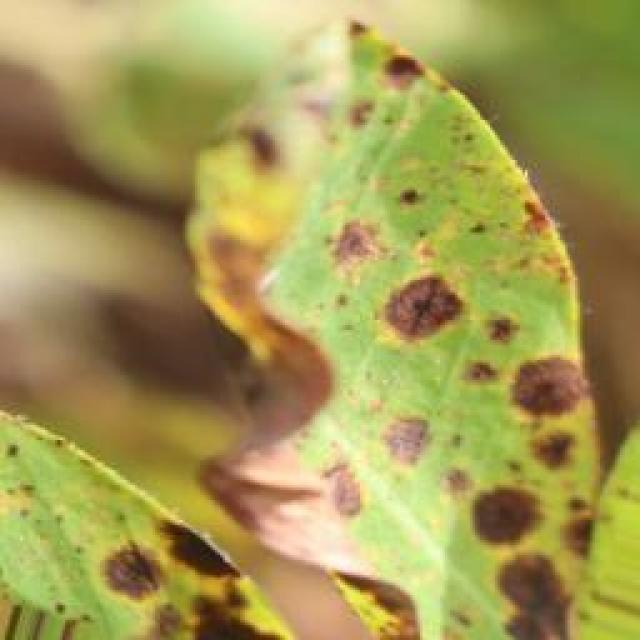Yellowish: (187, 0, 610, 594), (0, 405, 288, 640)
